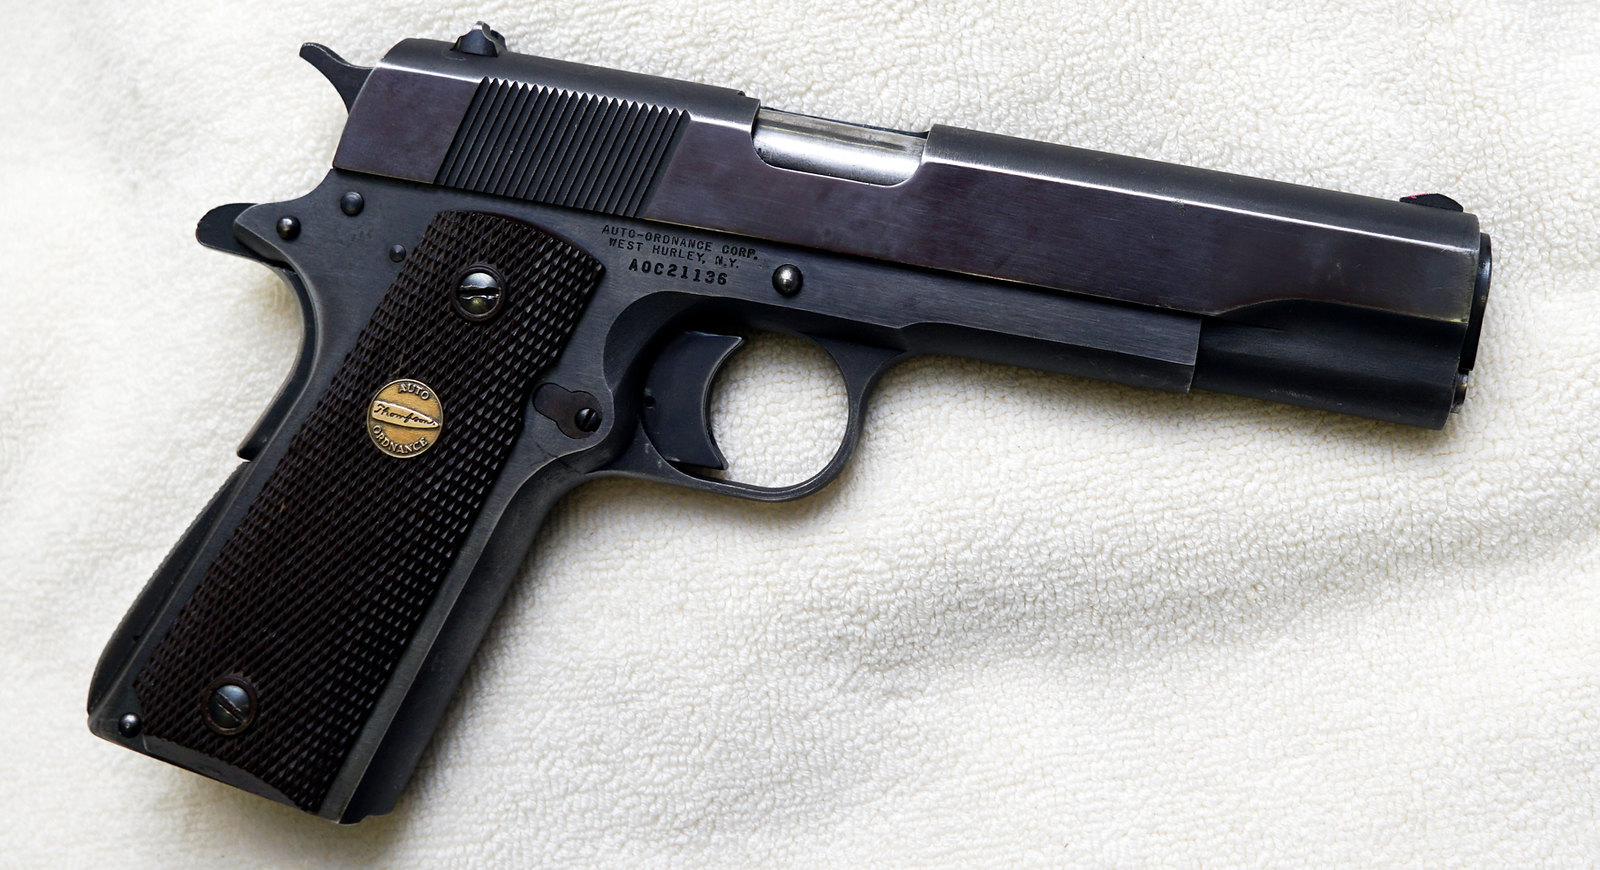gun: (72, 14, 1505, 831)
